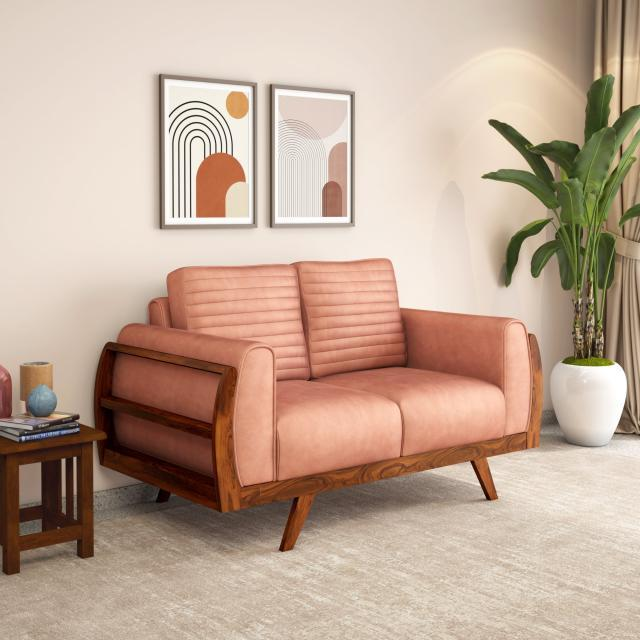sofa: (92, 257, 544, 552)
